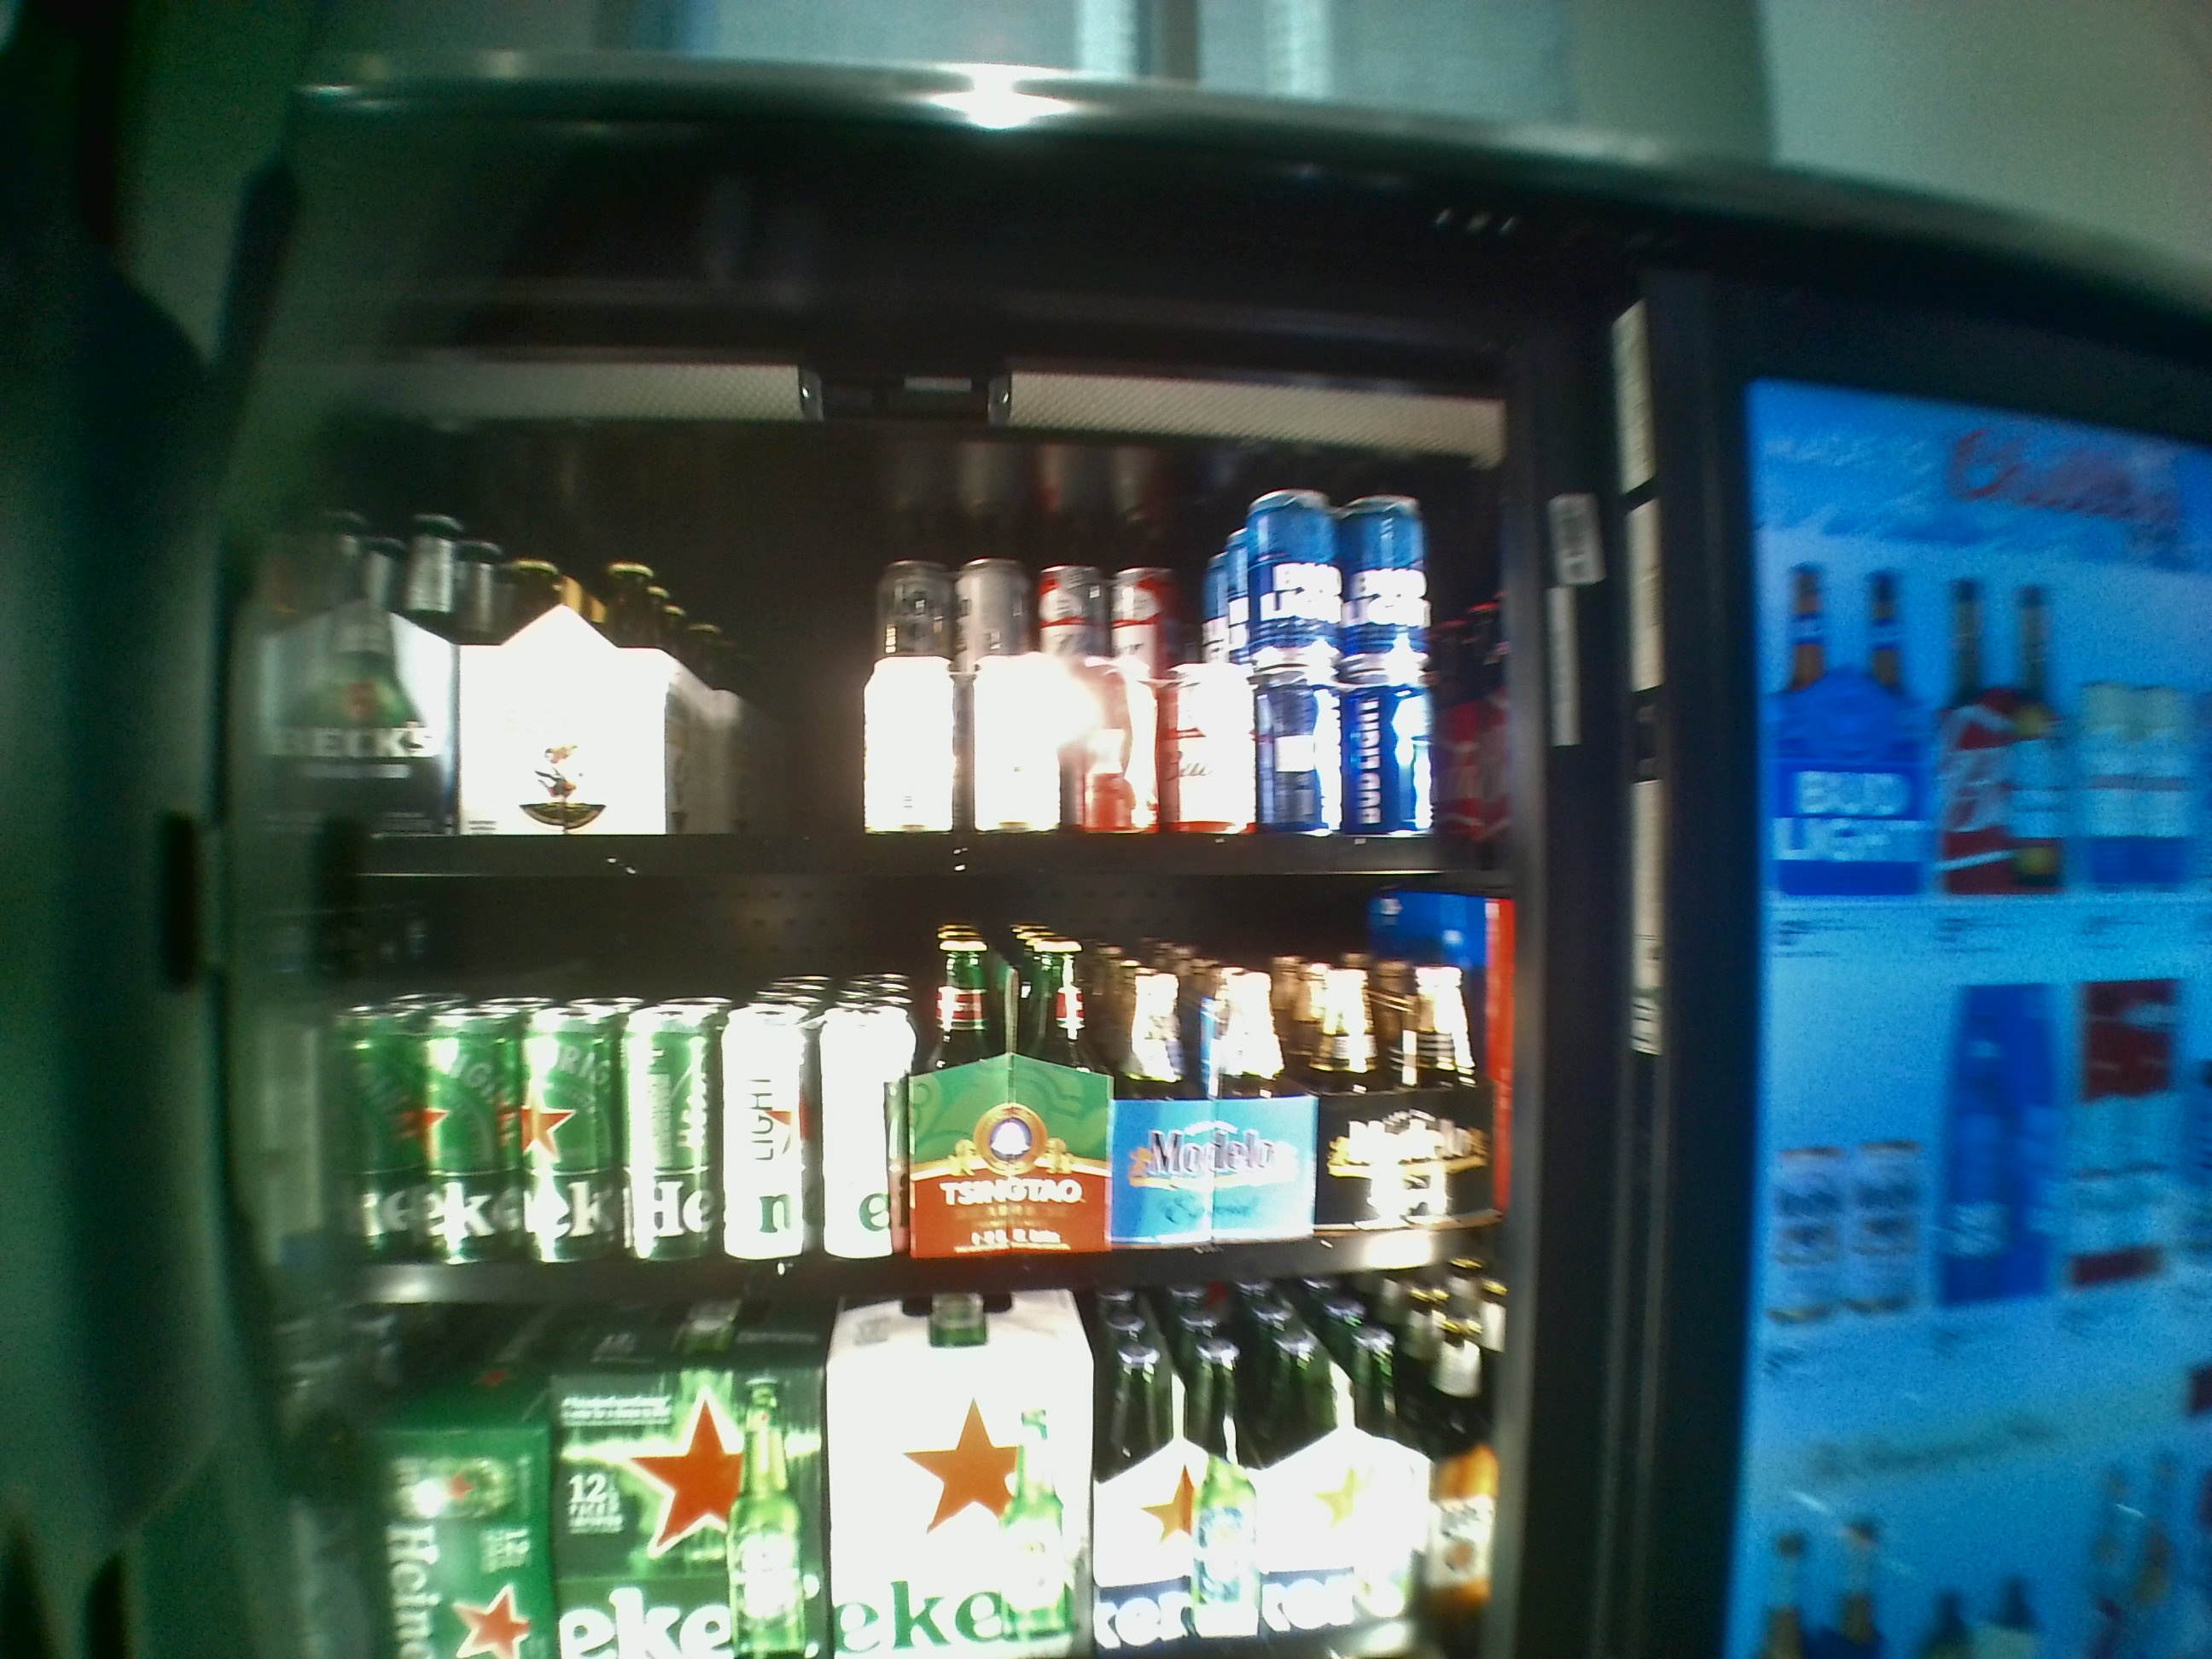shelf: (303, 462, 1505, 884), (308, 897, 1505, 1303)
